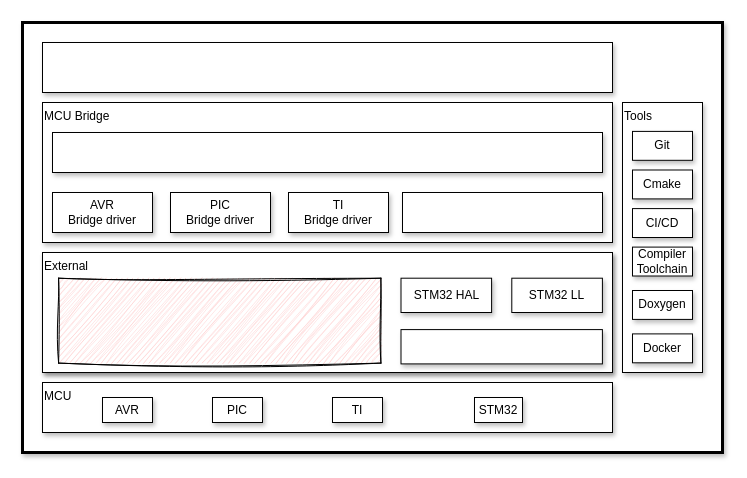
Image size: 747x478. Some labels were removed from this diagram. The shapes that lost their labels are listed below. From the top down, each one's centre as x and y in pixels, then its label:
the point at 328,69: Application
the point at 328,154: MCU Bridge driver
the point at 503,214: STM32 Bridge driver
the point at 219,320: TO BE IMPLEMENT
the point at 502,348: CMSIS
